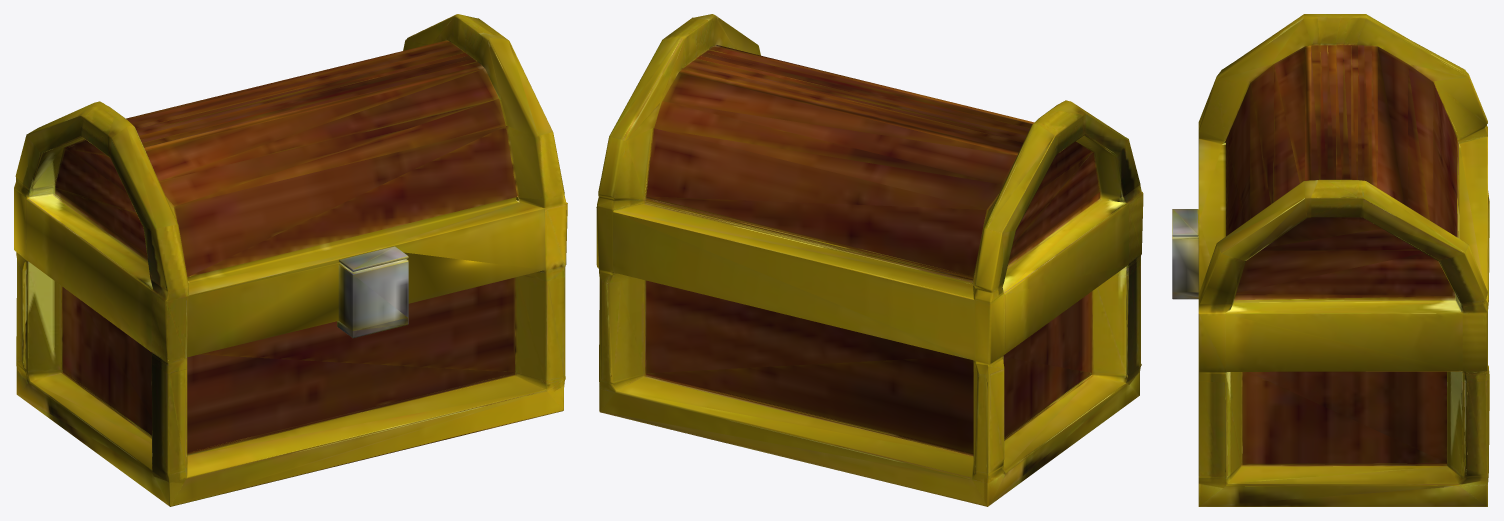
File: chest.glb
3 views of the same model, side by side, from view 1: azimuth 30°, elevation 25°; view 2: azimuth 150°, elevation 25°; view 3: azimuth 270°, elevation 25° (orthographic). The views are drawn at different scales.
Visible parts, largest first — view 1: Mesh_0, Mesh_0.001; view 2: Mesh_0; view 3: Mesh_0, Mesh_0.001.
Boxes of the visible parts, box(x1,y1,x2,y2) form: Mesh_0: box(14, 14, 567, 506); Mesh_0.001: box(337, 246, 408, 338); Mesh_0: box(596, 14, 1143, 506); Mesh_0: box(1173, 14, 1489, 506); Mesh_0.001: box(1172, 209, 1198, 299).
Size of the model in its own units: 1.9 by 1.51 by 1.37.
1 material, 1 textured.
